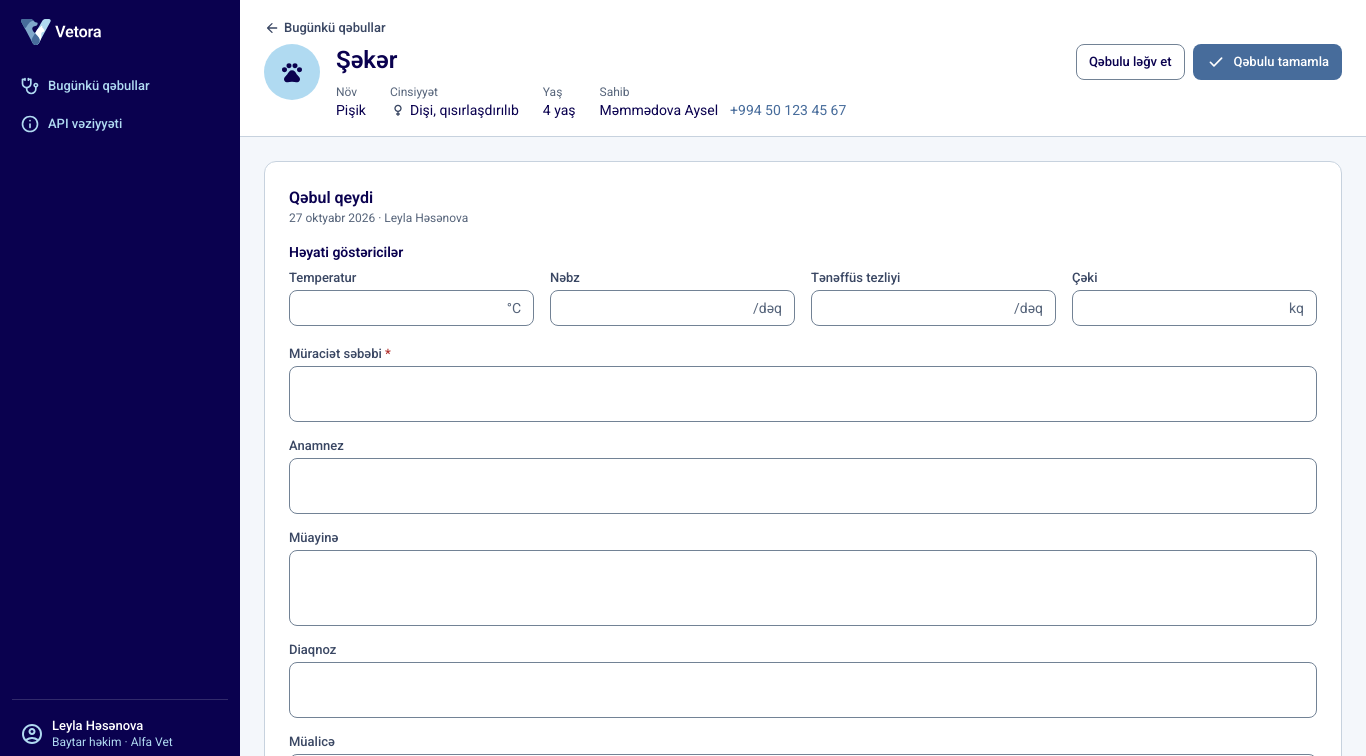
the draft note survives a dropped connection (#24, seam 3) › a gateway that cannot reach the API counts as no connection, and the text is kept
Expected: the heading "Şəkər" is shown, [336, 44, 397, 76]
Step 1. Type "Limping" into the text box labelled "Müraciət səbəbi" → (803, 394), box [290, 367, 1316, 421]
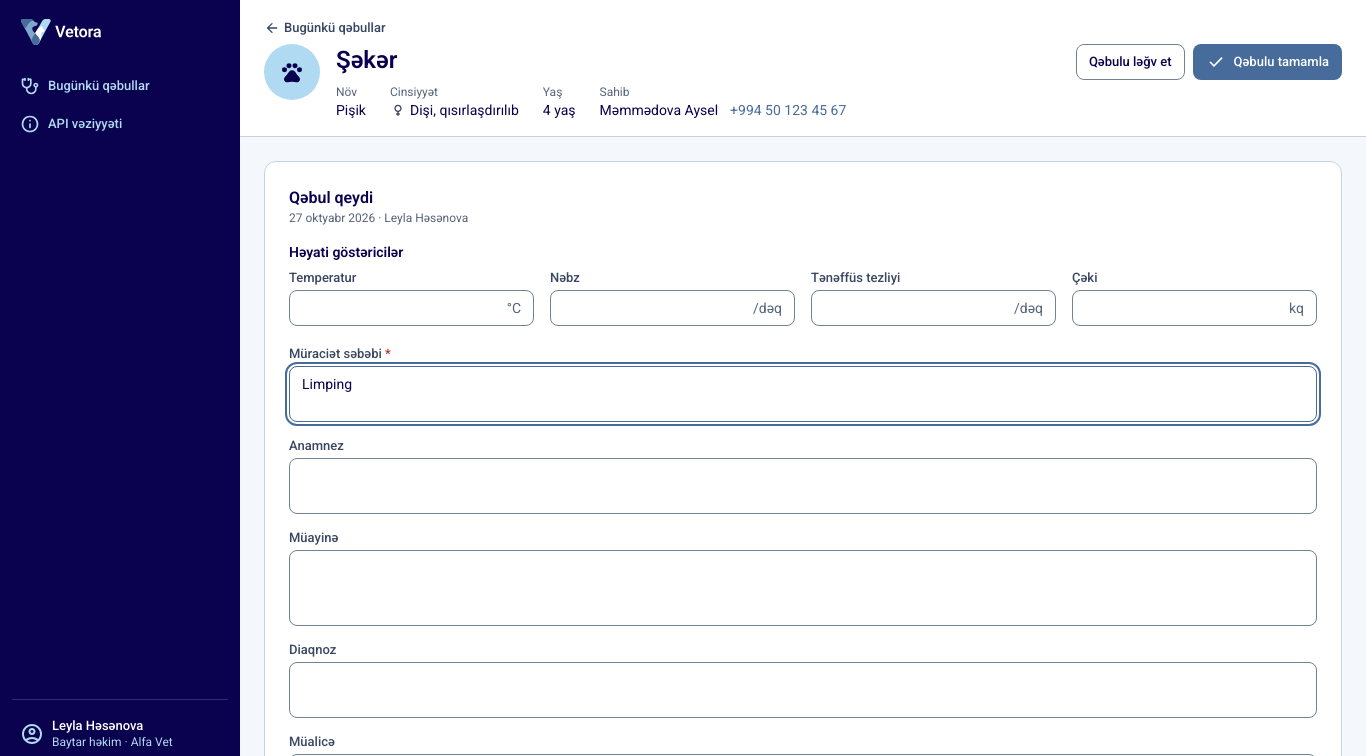
Step 2. Press Tab
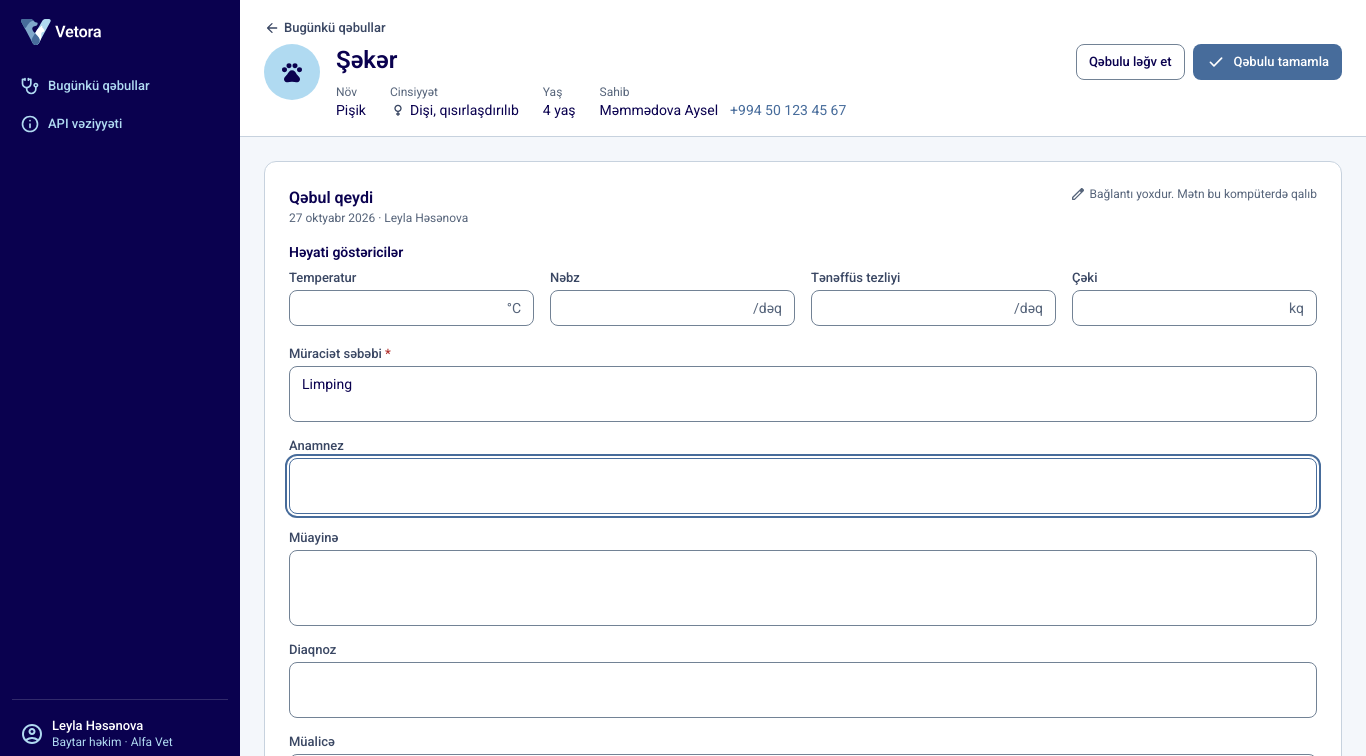
Result: the text "Bağlantı yoxdur. Mətn bu kompüterdə qalıb" is shown at [1090, 186, 1317, 202]
